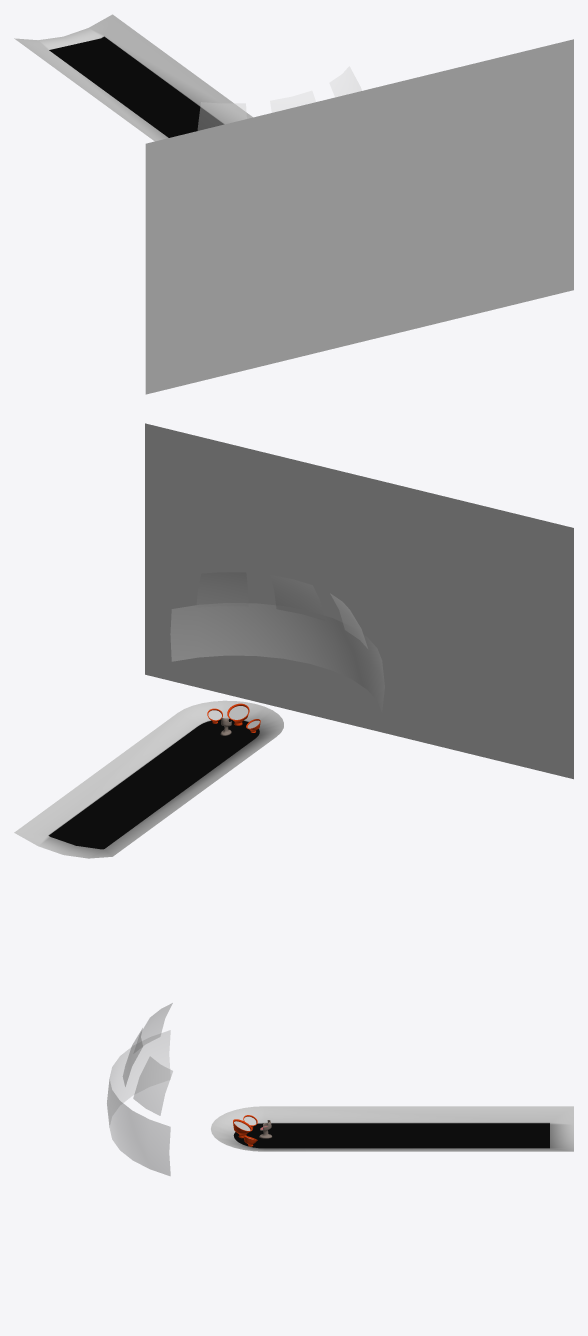
File: control nsq.fbx
The picture shows the model from 3 angles, top to bottom: view 1: azimuth 30°, elevation 25°; view 2: azimuth 150°, elevation 25°; view 3: azimuth 270°, elevation 25°; orthographic projection. The views are drawn at different scales.
Visible parts, largest first — view 1: Sci-Fi Space Station; view 2: Sci-Fi Space Station; view 3: Sci-Fi Space Station.
Boxes of the visible parts, x1,y1,x2,y2 form: Sci-Fi Space Station: (14,14,573,394); Sci-Fi Space Station: (14,423,573,858); Sci-Fi Space Station: (107,1003,573,1175).
Size of the model in its own units: 11250 by 6300 by 13478.
